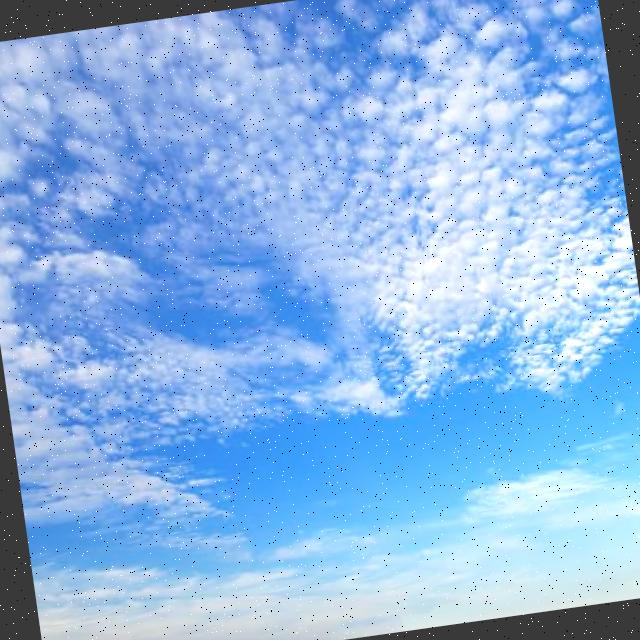Cc: (1, 1, 640, 545)
